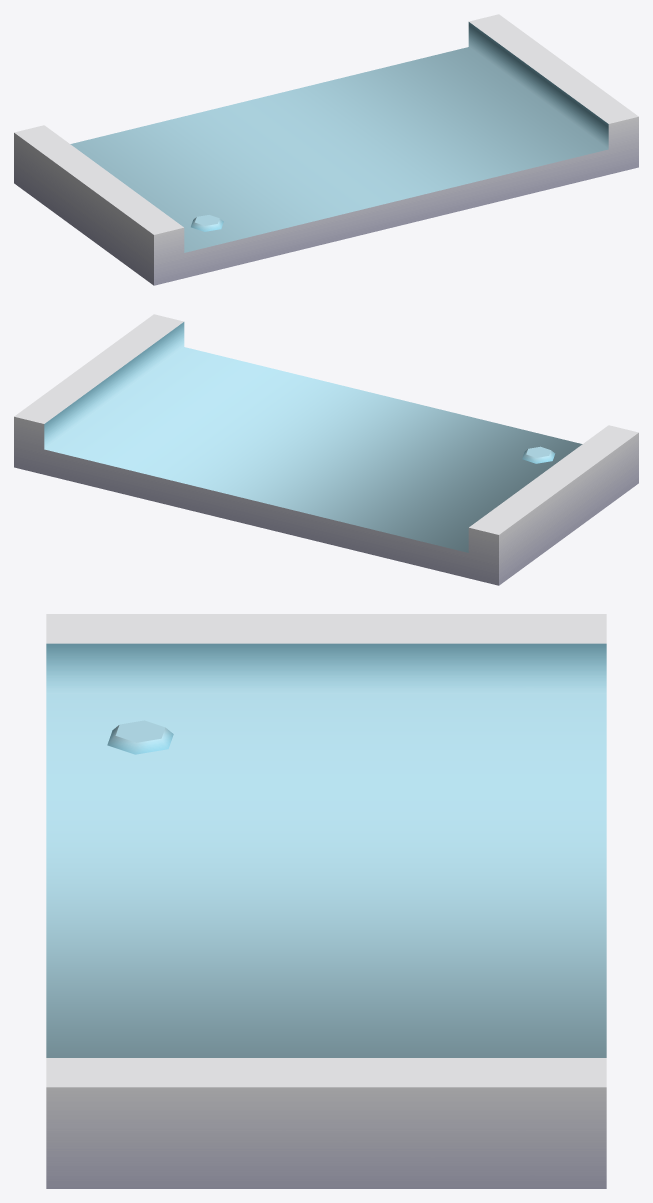
File: snow-tile-wide-straight.fbx
3 views of the same model, one above another, from view 1: azimuth 30°, elevation 25°; view 2: azimuth 150°, elevation 25°; view 3: azimuth 270°, elevation 25° (orthographic). The views are drawn at different scales.
Visible parts, largest first — view 1: snow-tile-wide-straight; view 2: snow-tile-wide-straight; view 3: snow-tile-wide-straight.
Part boxes in pixels (x1,y1,x2,y2): snow-tile-wide-straight: (14, 14, 638, 285); snow-tile-wide-straight: (14, 314, 638, 585); snow-tile-wide-straight: (46, 614, 606, 1188).
Size of the model in its own units: 200 by 20 by 100.
